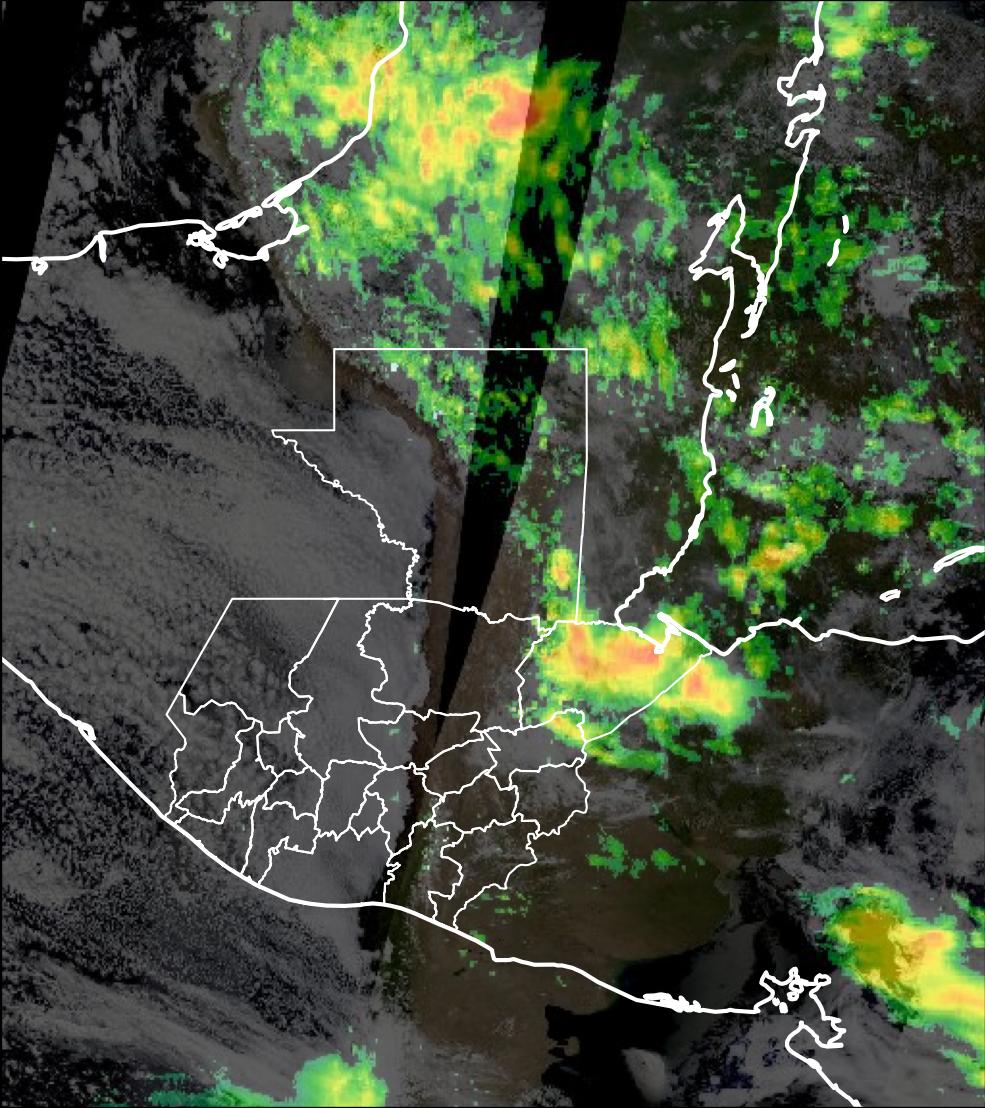precipitacion: (469, 63, 557, 156), (554, 628, 673, 683)
